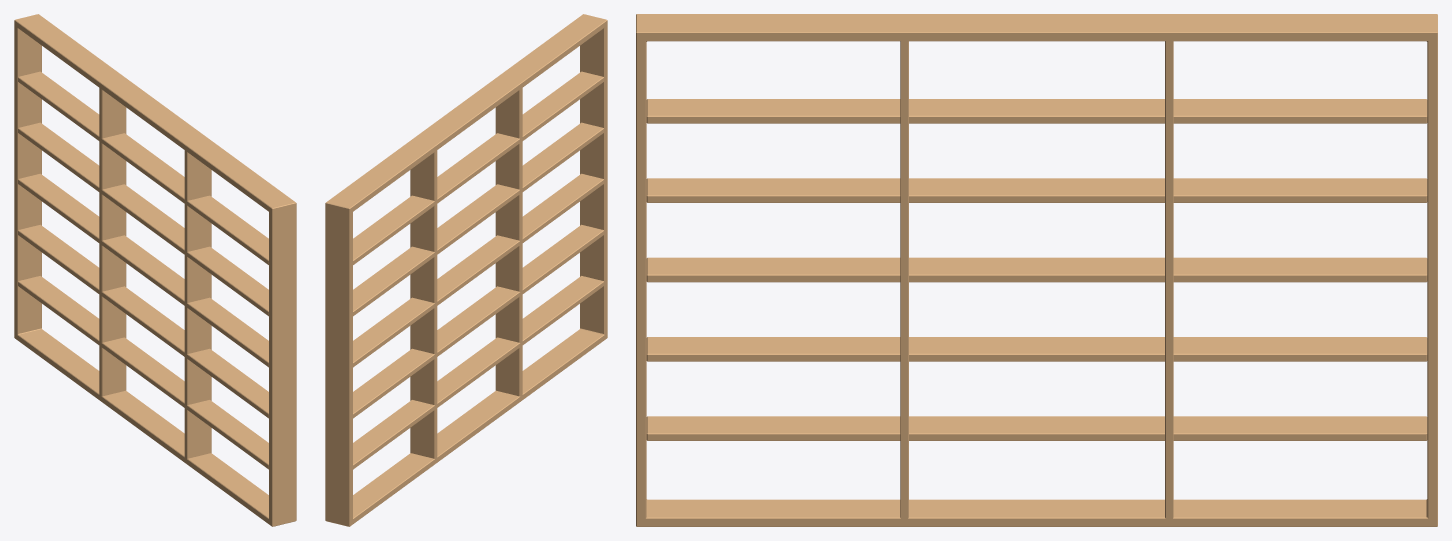
Rendered from SM_wooden_rack_1.fbx.
The picture shows the model from 3 angles, left to right: view 1: azimuth 30°, elevation 25°; view 2: azimuth 150°, elevation 25°; view 3: azimuth 270°, elevation 25°; orthographic projection. The views are drawn at different scales.
Parts seen in each view (by area): view 1: SM_wooden_rack_1; view 2: SM_wooden_rack_1; view 3: SM_wooden_rack_1.
Part boxes in pixels (left/top/right/bottom): SM_wooden_rack_1: left=14, top=14, right=296, bottom=526; SM_wooden_rack_1: left=325, top=14, right=607, bottom=526; SM_wooden_rack_1: left=636, top=14, right=1437, bottom=526.
Size of the model in its own units: 25 by 310 by 455.
